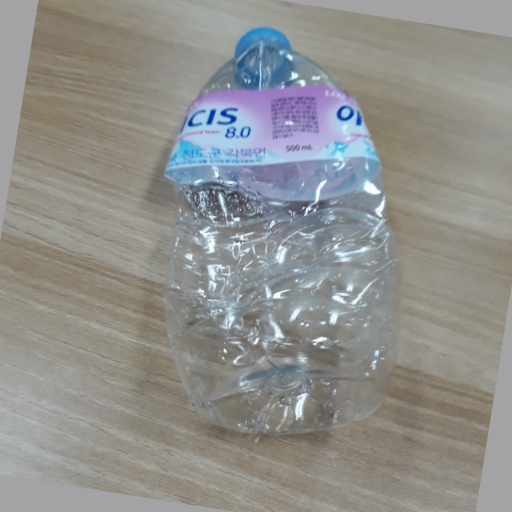Plastic_0: (164, 26, 398, 435)
